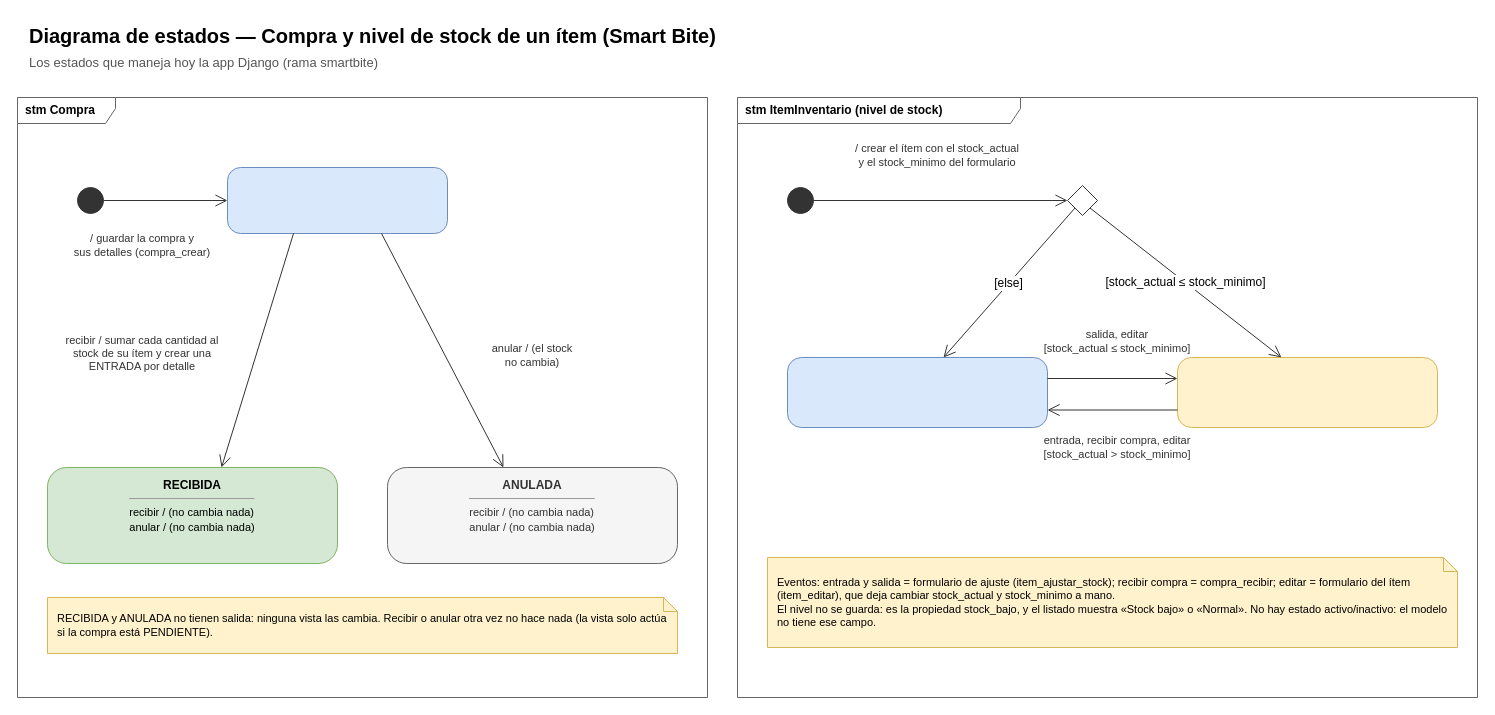
This 1495x715 diagram has some shape labels left out. Each missing label, with the box of its shape:
PENDIENTE: (226, 166, 448, 234)
Stock bajo {stock_actual ≤ stock_minimo}: (1176, 356, 1438, 428)
Stock normal {stock_actual > stock_minimo}: (786, 356, 1048, 428)
